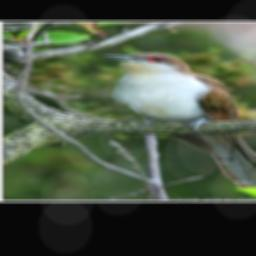Cuckoo: (99, 52, 256, 199)
